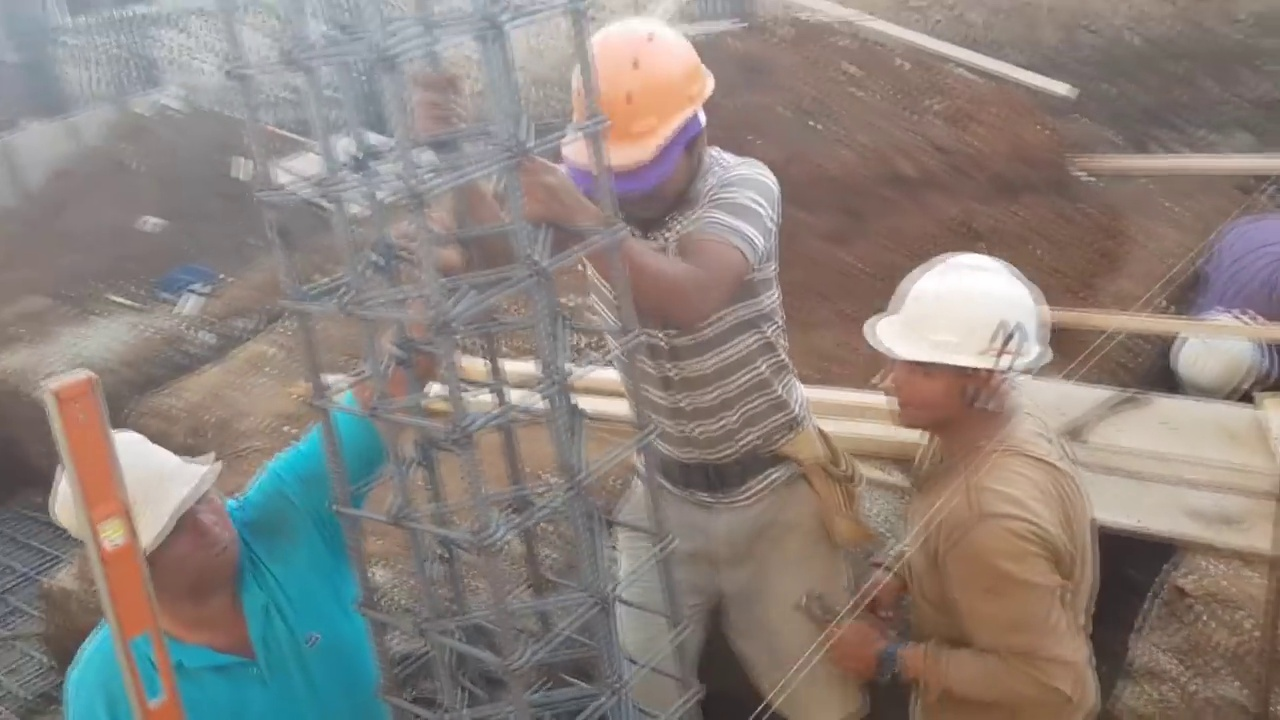helmet: (879, 252, 1050, 394), (566, 15, 705, 163), (1174, 315, 1264, 400)
helmet-off: (51, 403, 264, 671)
helmet-on: (867, 244, 1054, 480), (565, 9, 721, 233), (1171, 304, 1280, 407)
person: (417, 0, 873, 720), (29, 208, 460, 720), (825, 247, 1111, 715), (1173, 190, 1280, 407)
